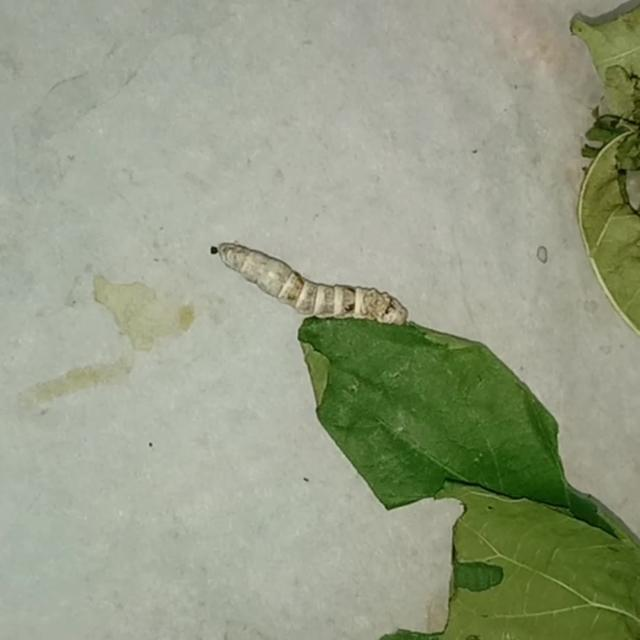Grasserie: (199, 209, 427, 358)
